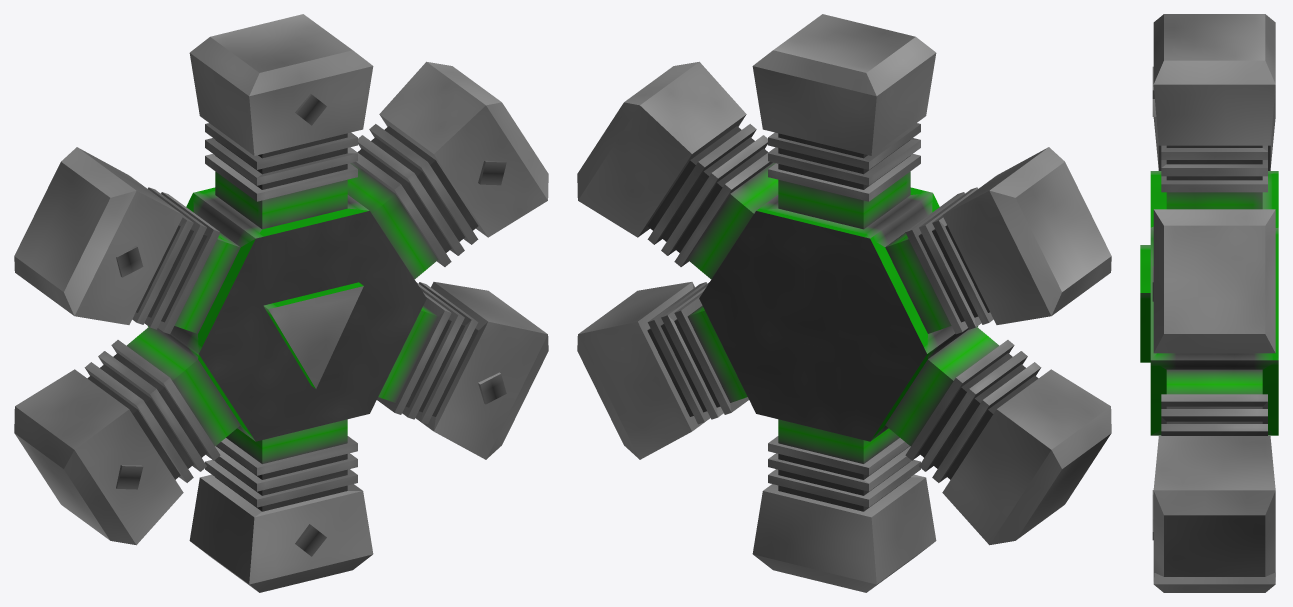
File: allison_v_1710.obj
3 views of the same model, side by side, from view 1: azimuth 30°, elevation 25°; view 2: azimuth 150°, elevation 25°; view 3: azimuth 270°, elevation 25° (orthographic). The views are drawn at different scales.
Visible parts, largest first — view 1: RadialEngine; view 2: RadialEngine; view 3: RadialEngine.
Part boxes in pixels (<box>): RadialEngine: <box>14,14,548,592</box>; RadialEngine: <box>577,14,1111,592</box>; RadialEngine: <box>1140,14,1278,592</box>.
Size of the model in its own units: 1.73 by 1.77 by 0.4188.
